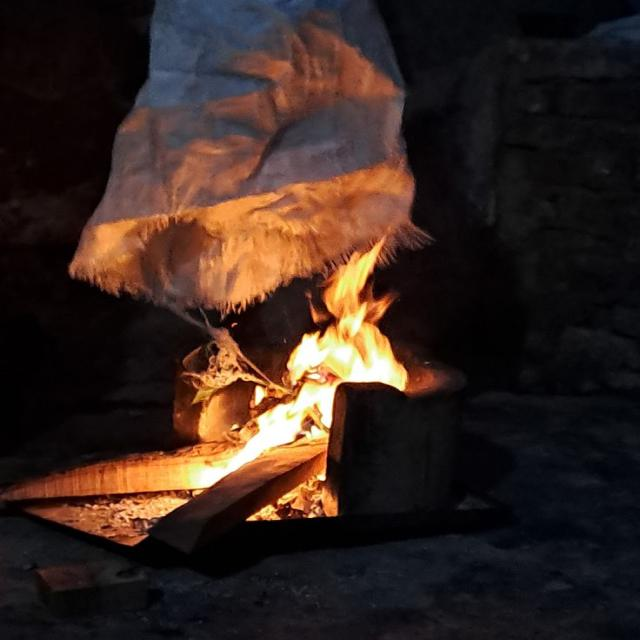fire: (284, 232, 407, 392), (225, 391, 334, 464)
